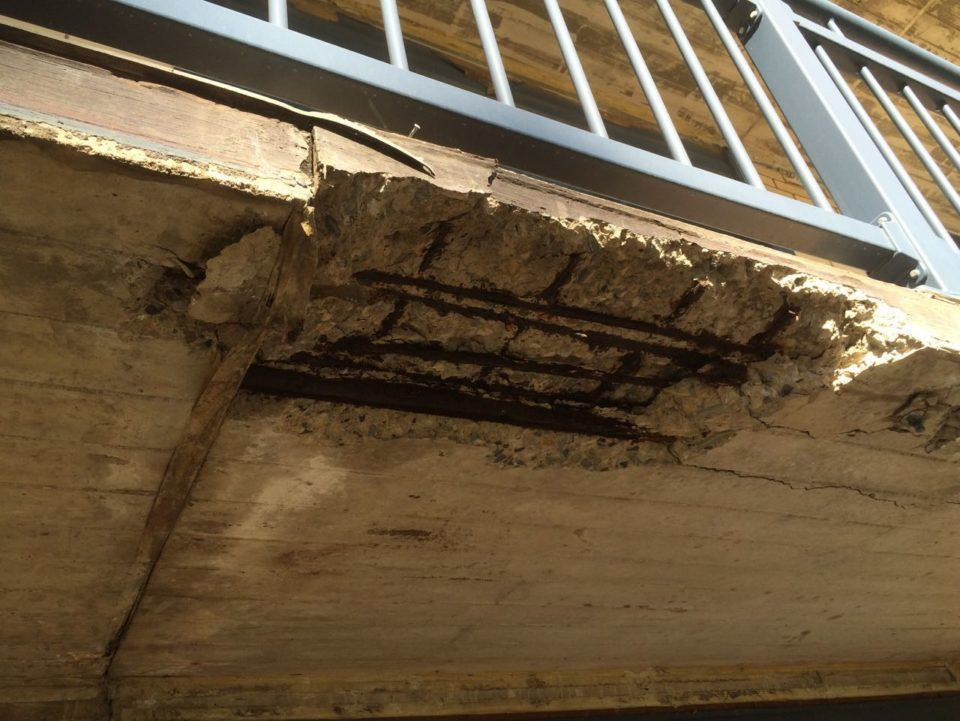Crack: (670, 447, 907, 512), (748, 394, 894, 442)
Exposed reinforcement: (238, 364, 677, 446), (349, 267, 761, 353), (306, 282, 726, 366), (259, 350, 645, 416), (310, 329, 663, 389), (644, 337, 742, 408), (747, 301, 801, 352), (587, 351, 640, 401), (476, 328, 523, 383), (540, 249, 581, 305), (417, 219, 455, 276), (661, 278, 707, 323), (370, 298, 408, 340)
Spalling: (110, 166, 960, 472)
